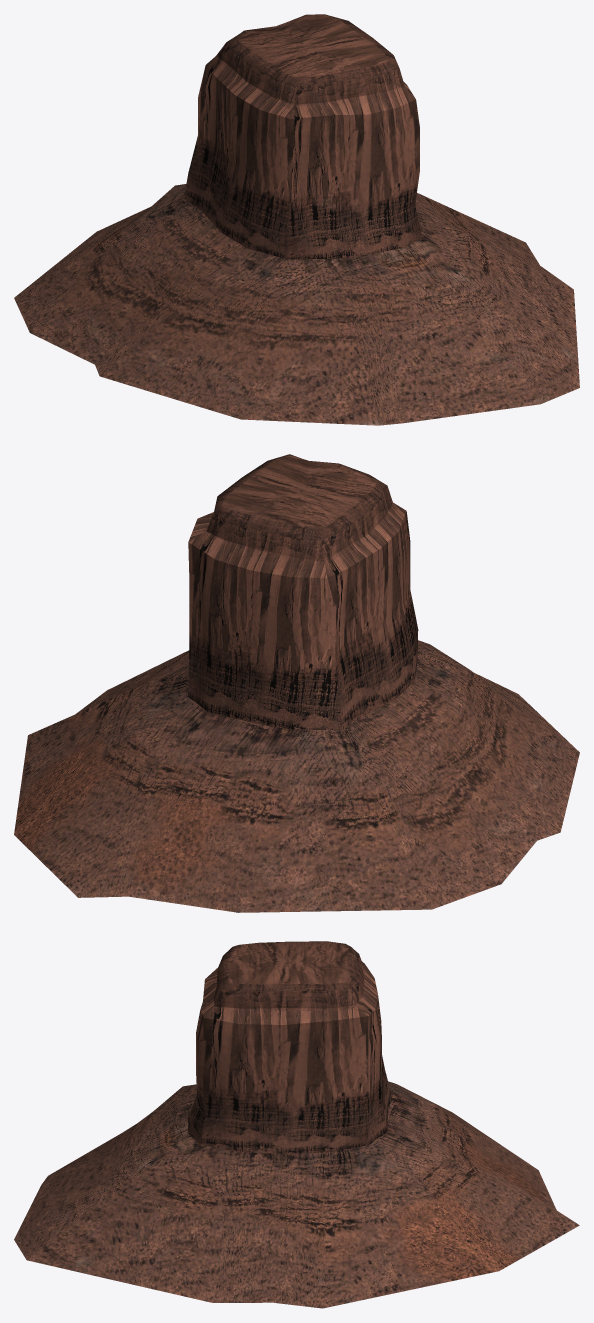
File: object_59_lev2.glb
3 renders of one model, top to bottom at view 1: azimuth 30°, elevation 25°; view 2: azimuth 150°, elevation 25°; view 3: azimuth 270°, elevation 25°, orthographic. The views are drawn at different scales.
Visible parts, largest first — view 1: object_59_lev2; view 2: object_59_lev2; view 3: object_59_lev2.
Part boxes in pixels (bbox=[...]): object_59_lev2: bbox=[14, 14, 579, 425]; object_59_lev2: bbox=[14, 454, 579, 912]; object_59_lev2: bbox=[14, 941, 579, 1308].
Size of the model in its own units: 17.64 by 9.65 by 20.42.
Materials: 1 (1 with a texture image).
